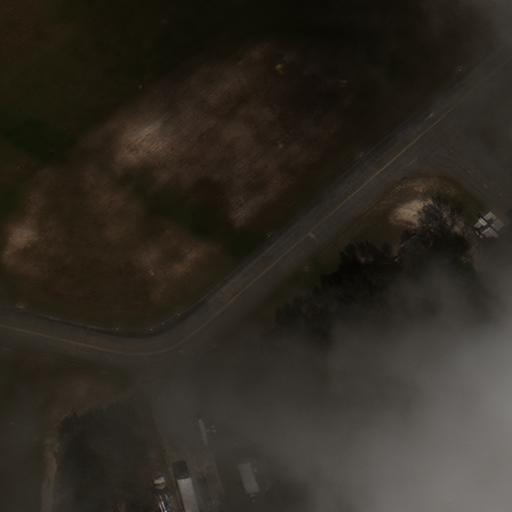Small Civil Transport: (195, 418, 216, 446), (477, 216, 498, 236)
